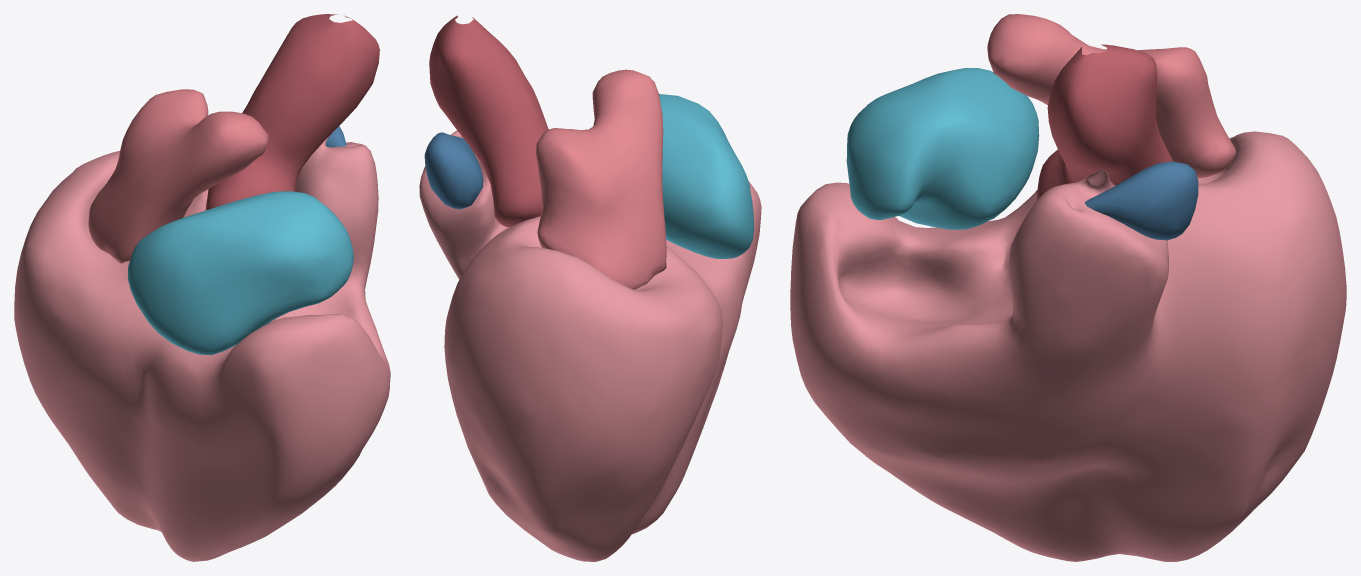
The model's file is frame_70.glb.
3 renders of one model, left to right at view 1: azimuth 30°, elevation 25°; view 2: azimuth 150°, elevation 25°; view 3: azimuth 270°, elevation 25°, orthographic. The views are drawn at different scales.
Parts seen in each view (by area): view 1: Renderer Node; view 2: Renderer Node; view 3: Renderer Node.
Boxes of the visible parts, x1,y1,x2,y2 form: Renderer Node: (14,14,390,561); Renderer Node: (419,15,761,561); Renderer Node: (790,14,1346,561).
Size of the model in its own units: 107 by 164 by 137.
